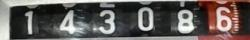digits: (176, 9, 195, 33), (97, 9, 115, 33), (215, 6, 231, 31), (137, 6, 153, 31), (59, 9, 75, 34), (24, 10, 33, 34)
